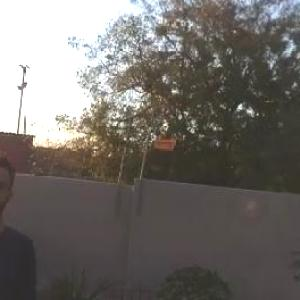follow: (0, 143, 41, 299)
